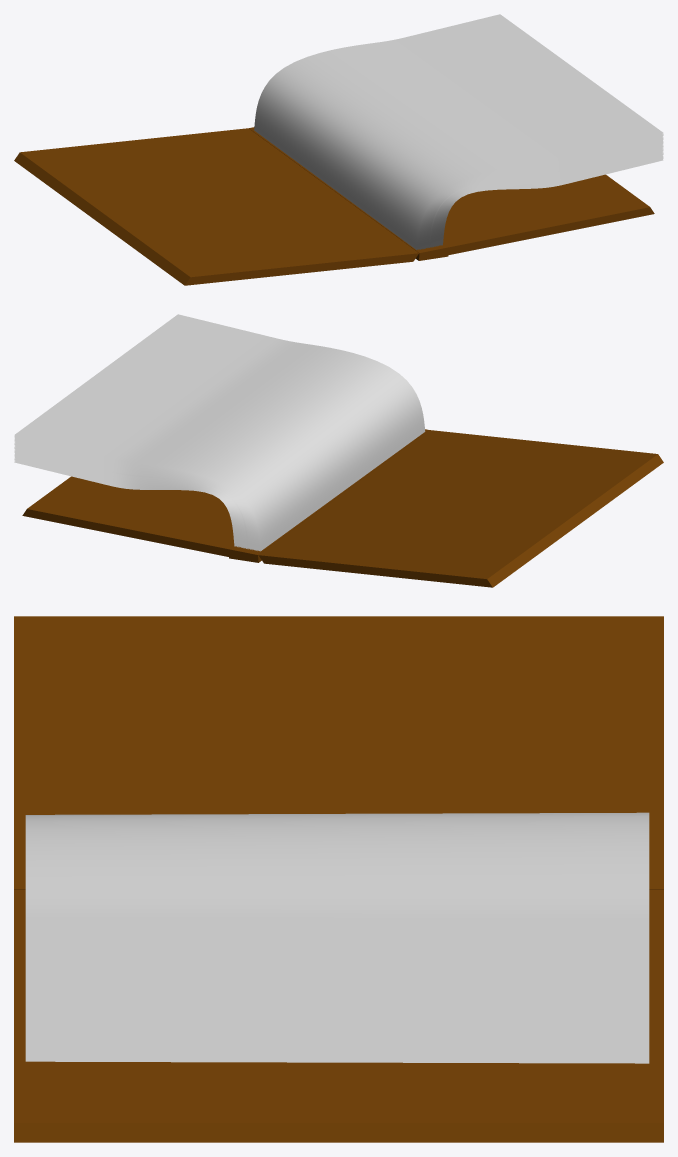
Rendered from AnimatedBook.fbx.
The picture shows the model from 3 angles, top to bottom: view 1: azimuth 30°, elevation 25°; view 2: azimuth 150°, elevation 25°; view 3: azimuth 270°, elevation 25°; orthographic projection. The views are drawn at different scales.
Parts seen in each view (by area): view 1: Page.020, Cover_Left, Cover_Right, Page.019, Page.016, Page.017, Page.018, Page.015, Page.014, Page.013, Page.011, Page.012 (+12 smaller); view 2: Page.020, Cover_Left, Cover_Right, Page.019, Page.018, Page.015, Page.017, Page.014, Page.016, Page.012, Page.011, Page.010 (+12 smaller); view 3: Cover_Left, Page.020, Cover_Right, Page, Page.003, Page.005, Page.008, Page.010, Page.012, Page.015, Page.017, Page.001 (+11 smaller).
Part boxes in pixels (left/top/right/bottom): Page.020: left=254, top=14, right=663, bottom=249; Cover_Left: left=14, top=128, right=418, bottom=285; Cover_Right: left=249, top=127, right=654, bottom=258; Page.019: left=417, top=133, right=663, bottom=249; Page.016: left=421, top=137, right=663, bottom=249; Page.017: left=419, top=136, right=663, bottom=249; Page.018: left=418, top=135, right=663, bottom=249; Page.015: left=422, top=139, right=663, bottom=249; Page.014: left=423, top=140, right=663, bottom=248; Page.013: left=425, top=141, right=663, bottom=248; Page.011: left=427, top=144, right=663, bottom=247; Page.012: left=426, top=143, right=663, bottom=248; Page.020: left=14, top=314, right=425, bottom=551; Cover_Left: left=258, top=430, right=663, bottom=587; Cover_Right: left=22, top=429, right=427, bottom=561; Page.019: left=14, top=435, right=260, bottom=550; Page.018: left=14, top=437, right=258, bottom=550; Page.015: left=14, top=441, right=254, bottom=550; Page.017: left=14, top=438, right=257, bottom=550; Page.014: left=14, top=442, right=253, bottom=549; Page.016: left=14, top=439, right=256, bottom=550; Page.012: left=14, top=445, right=251, bottom=549; Page.011: left=14, top=446, right=249, bottom=549; Page.010: left=14, top=448, right=248, bottom=548; Cover_Left: left=14, top=616, right=663, bottom=889; Page.020: left=25, top=812, right=649, bottom=1011; Cover_Right: left=14, top=889, right=663, bottom=1142; Page: left=25, top=1059, right=649, bottom=1063; Page.003: left=25, top=1051, right=649, bottom=1055; Page.005: left=25, top=1046, right=649, bottom=1050; Page.008: left=25, top=1038, right=649, bottom=1042; Page.010: left=25, top=1033, right=649, bottom=1037; Page.012: left=25, top=1028, right=649, bottom=1032; Page.015: left=25, top=1020, right=649, bottom=1024; Page.017: left=25, top=1015, right=649, bottom=1019; Page.001: left=25, top=1056, right=649, bottom=1060.
Size of the model in its own units: 326 by 51.66 by 200.
